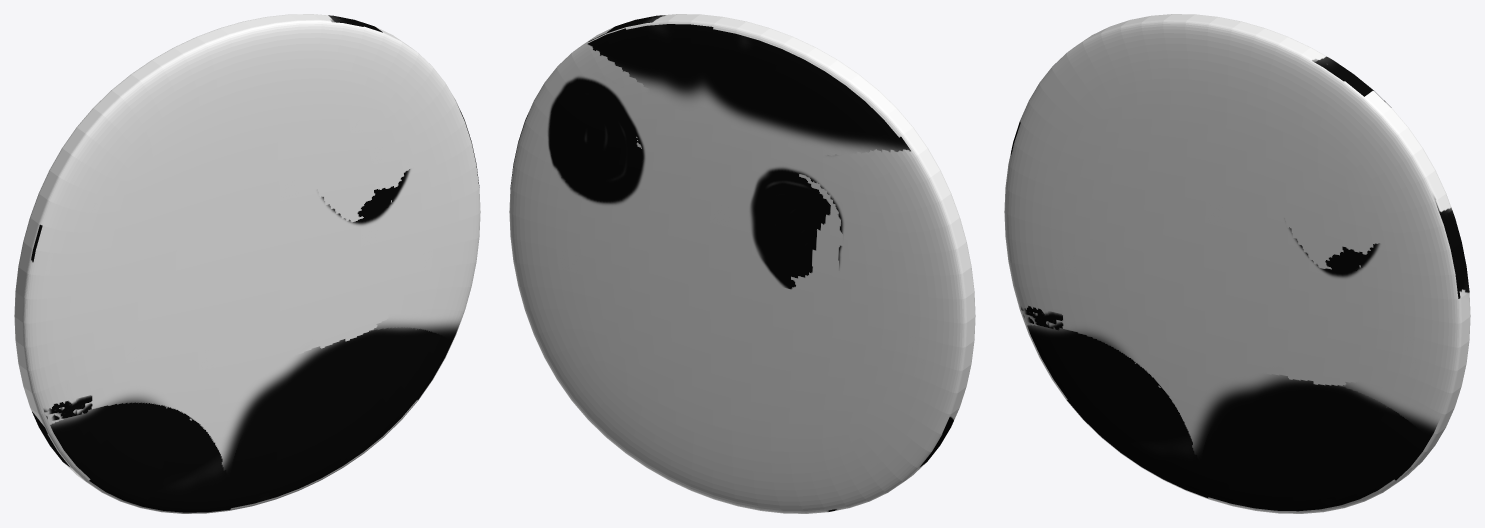
File: moneta.fbx
The picture shows the model from 3 angles, left to right: view 1: azimuth 30°, elevation 25°; view 2: azimuth 150°, elevation 25°; view 3: azimuth 330°, elevation 25°; orthographic projection.
Parts seen in each view (by area): view 1: Cube; view 2: Cube; view 3: Cube.
Boxes of the visible parts, box(x1,y1,x2,y2) form: Cube: box(14, 14, 480, 513); Cube: box(509, 14, 975, 513); Cube: box(1004, 14, 1470, 513).
Bounding box in the file's own units: 183 × 183 × 16.05.
Materials: 1 (1 with a texture image).
